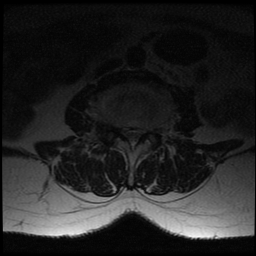CCS_normal: (129, 120, 136, 156)
LFS_severe_stenosis: (143, 118, 151, 143)
LLS_stenosis: (136, 120, 143, 147)
RFS_severe_stenosis: (112, 118, 121, 146)
RLS_normal: (120, 119, 129, 147)
